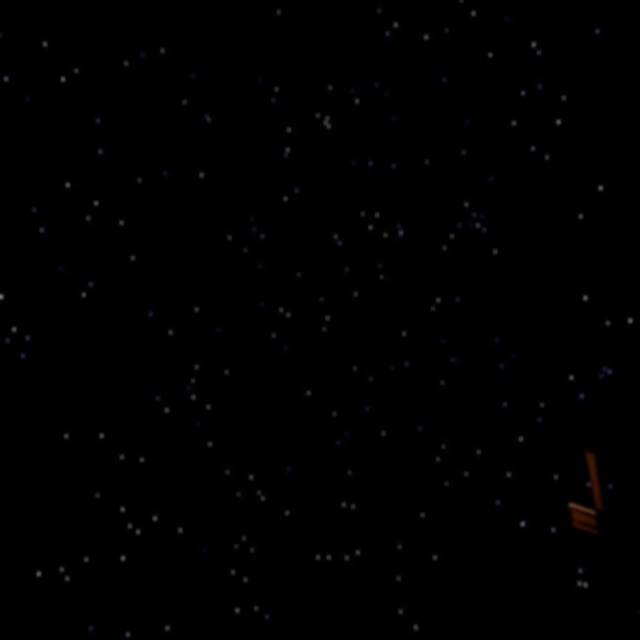medium_debris: (554, 434, 640, 557)
